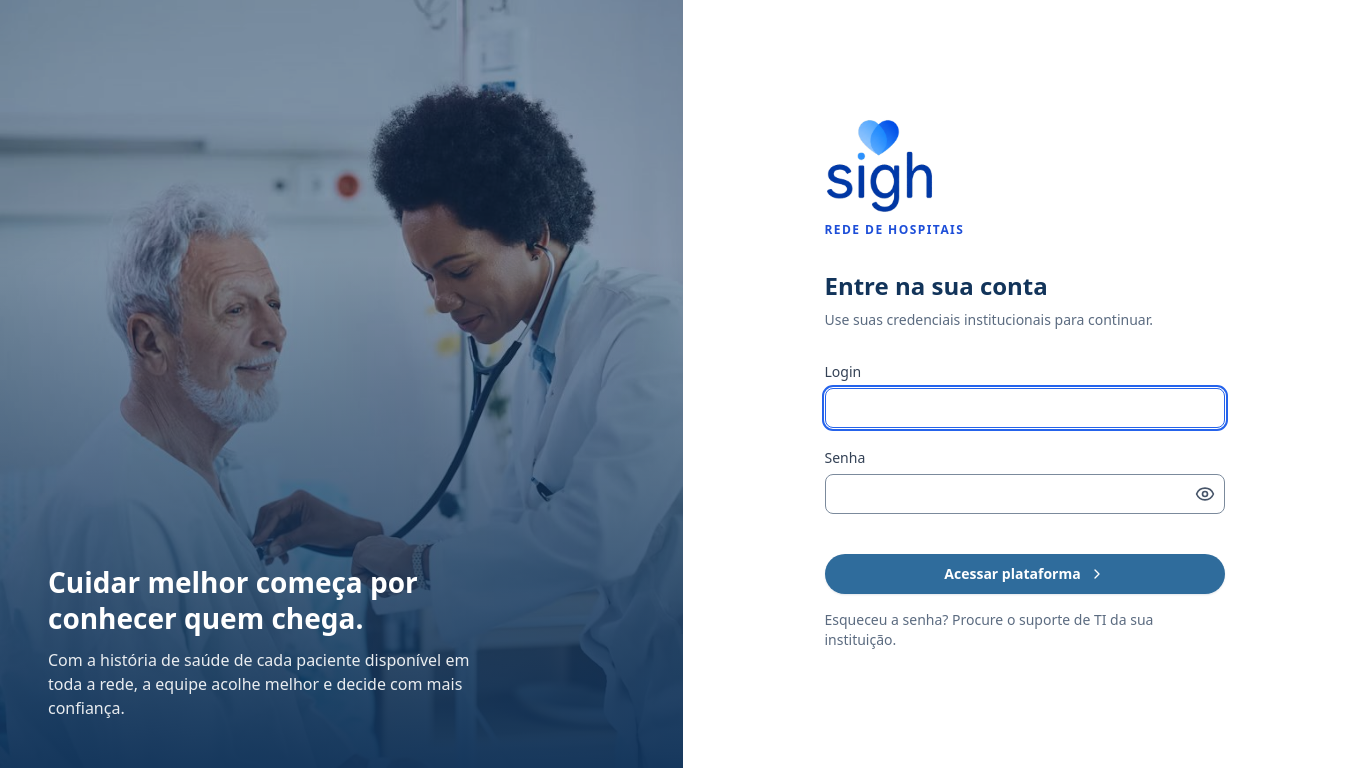
primeiro acesso com senha temporária › mostra a recusa da API e não segue
Step 1. Type "adm.novo" into the field labelled "Login" → (1024, 408), box 824,388 -> 1224,428
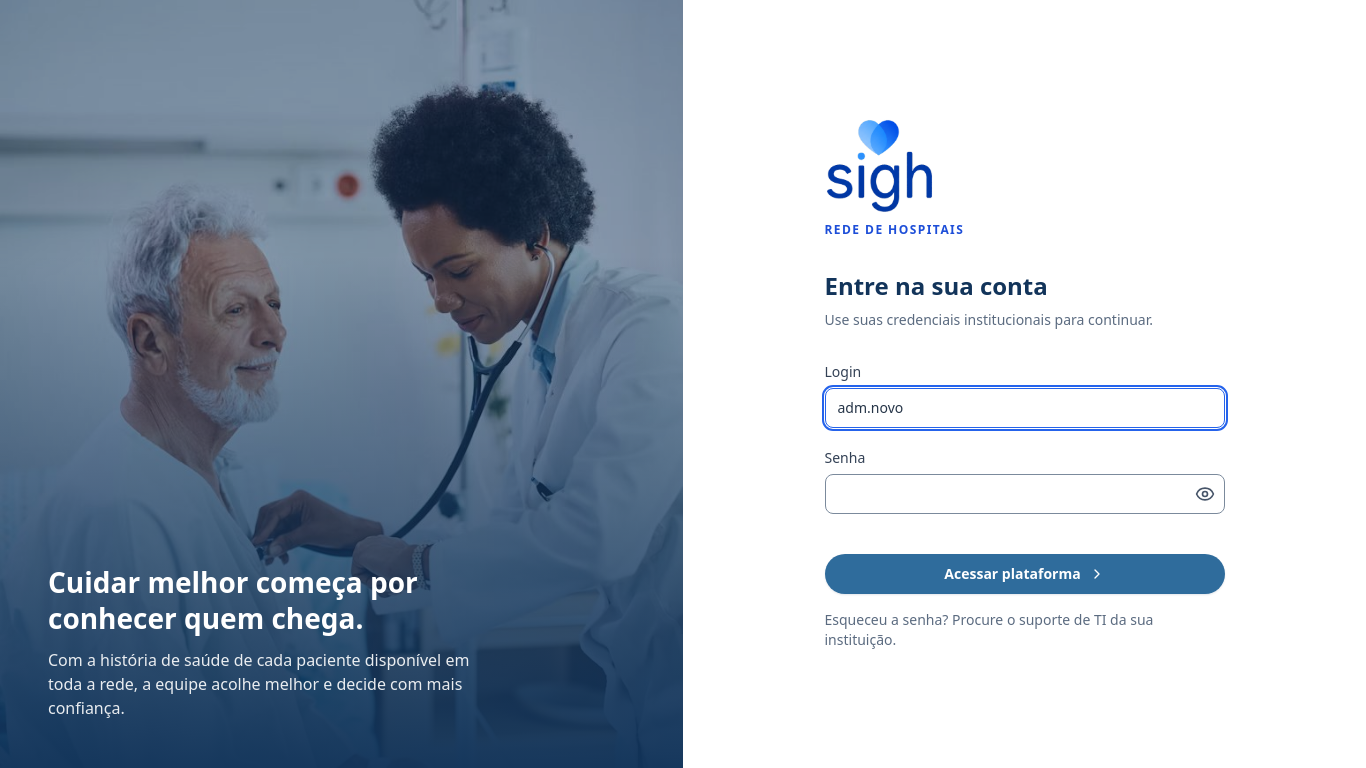
Step 2. Type "Temporaria2026Ab" into the password field labelled "Senha" → (1024, 494), box 824,474 -> 1224,514
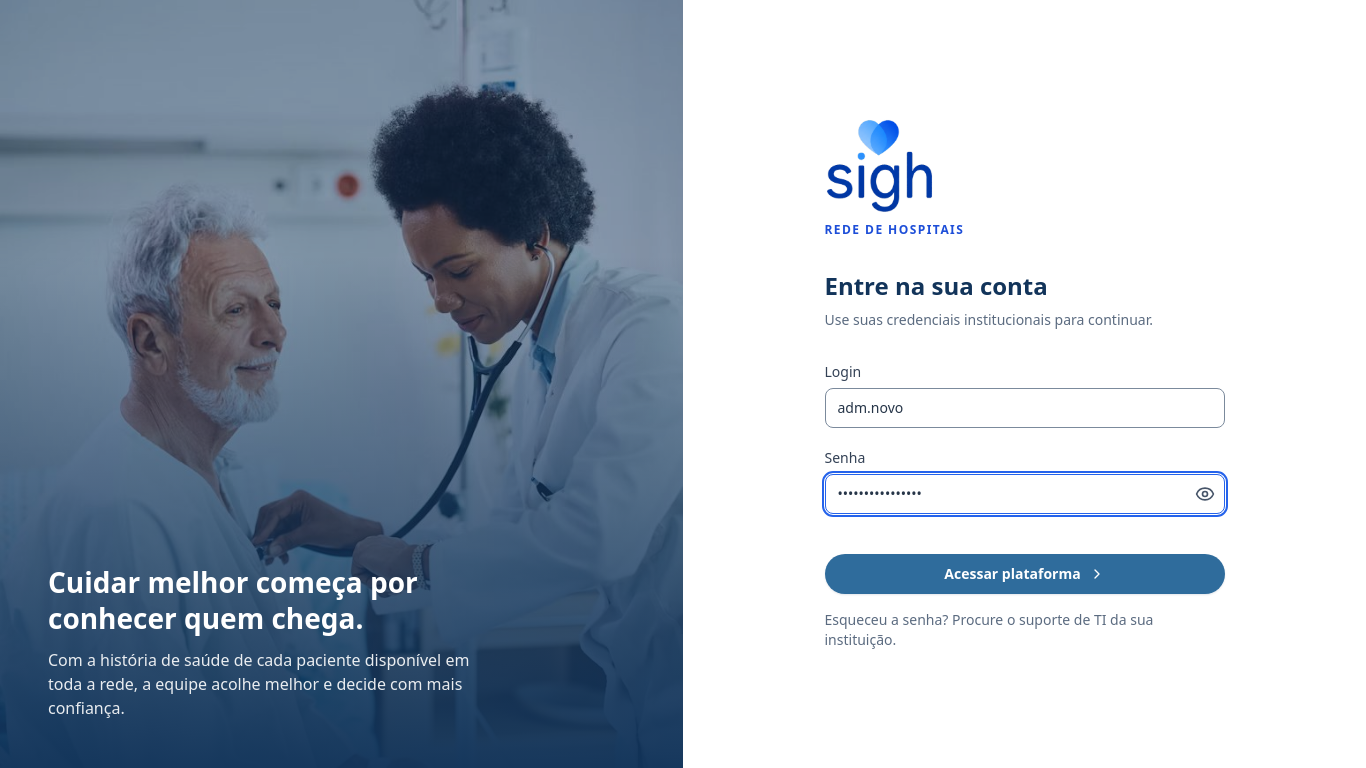
Step 3. Click the button "Acessar plataforma" → (1024, 574), box 824,554 -> 1224,594
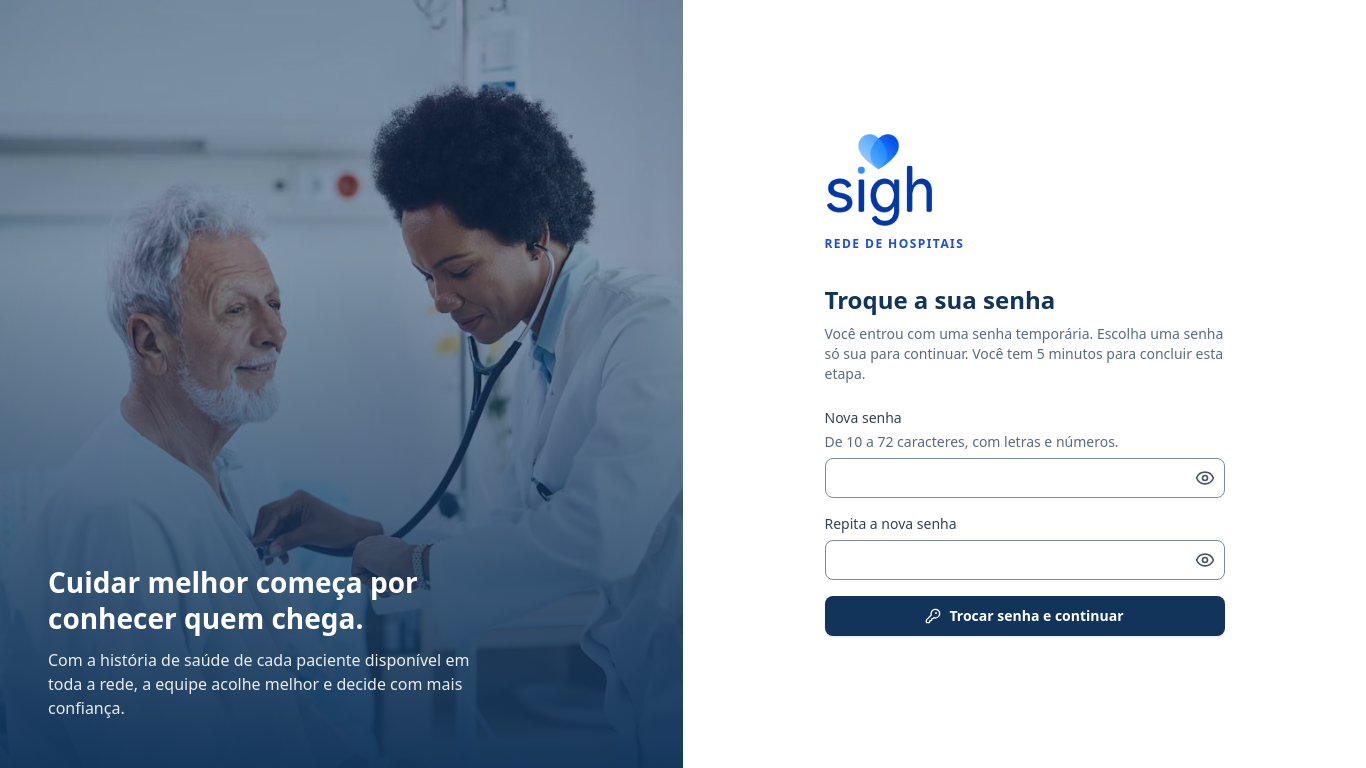
Step 4. Type "Temporaria2026Ab" into the password field labelled "Nova senha" → (1024, 478), box 824,458 -> 1224,498
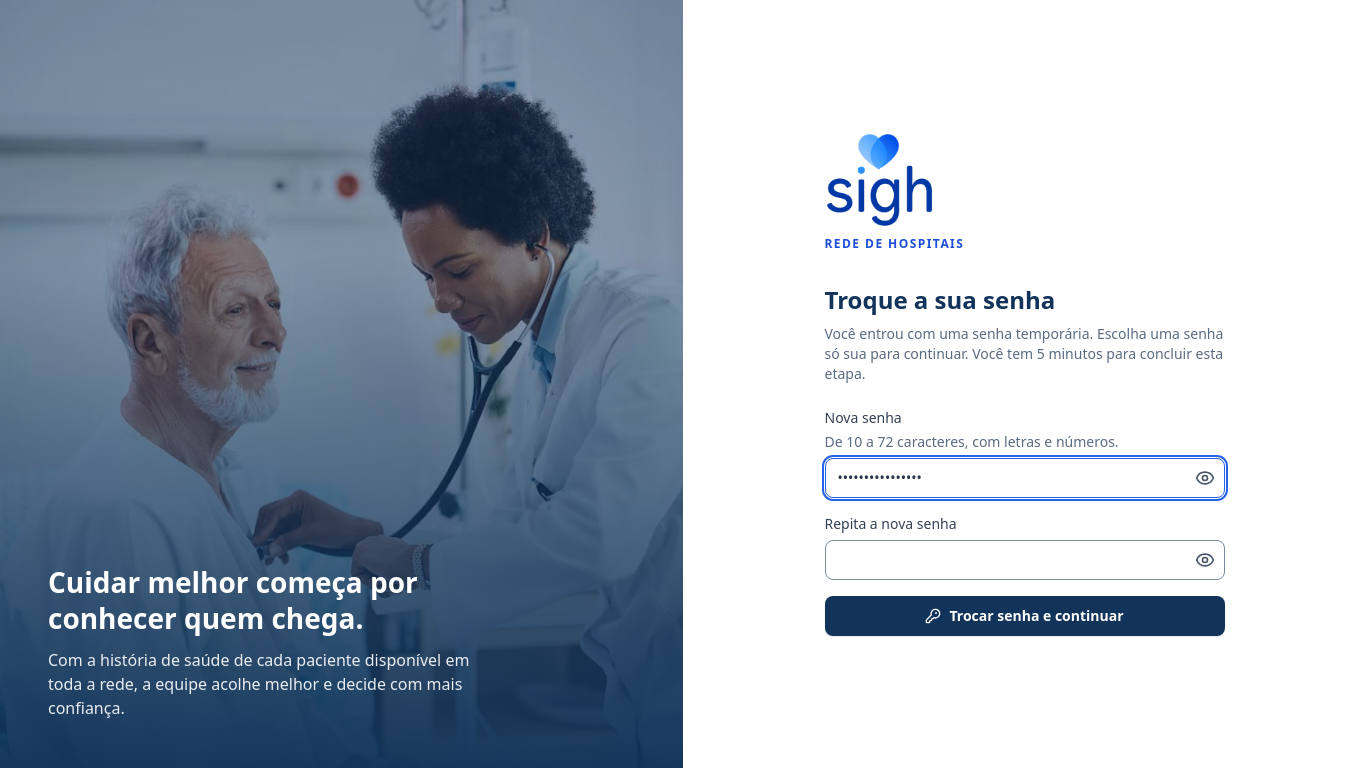
Step 5. Type "Temporaria2026Ab" into the password field labelled "Repita a nova senha" → (1024, 560), box 824,540 -> 1224,580
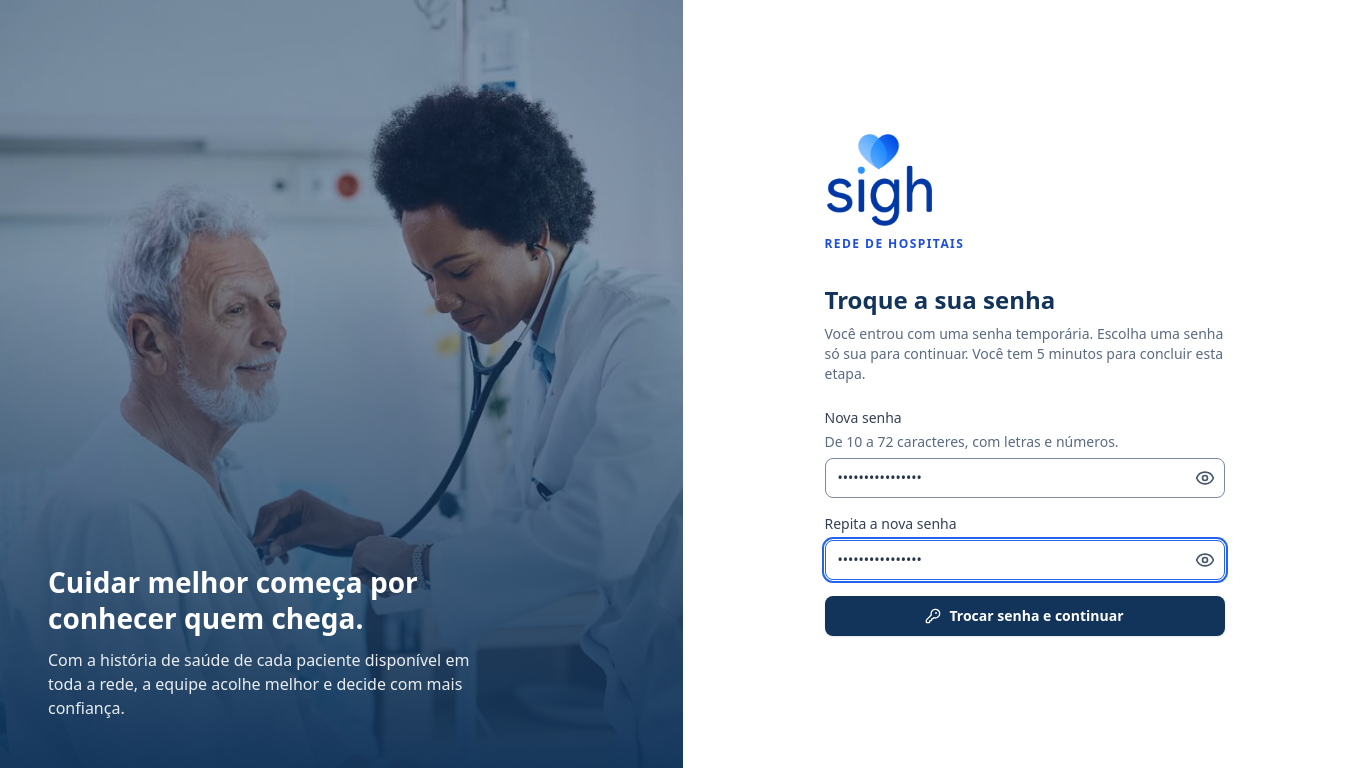
Step 6. Click the button "Trocar senha e continuar" → (1024, 616), box 824,596 -> 1224,636
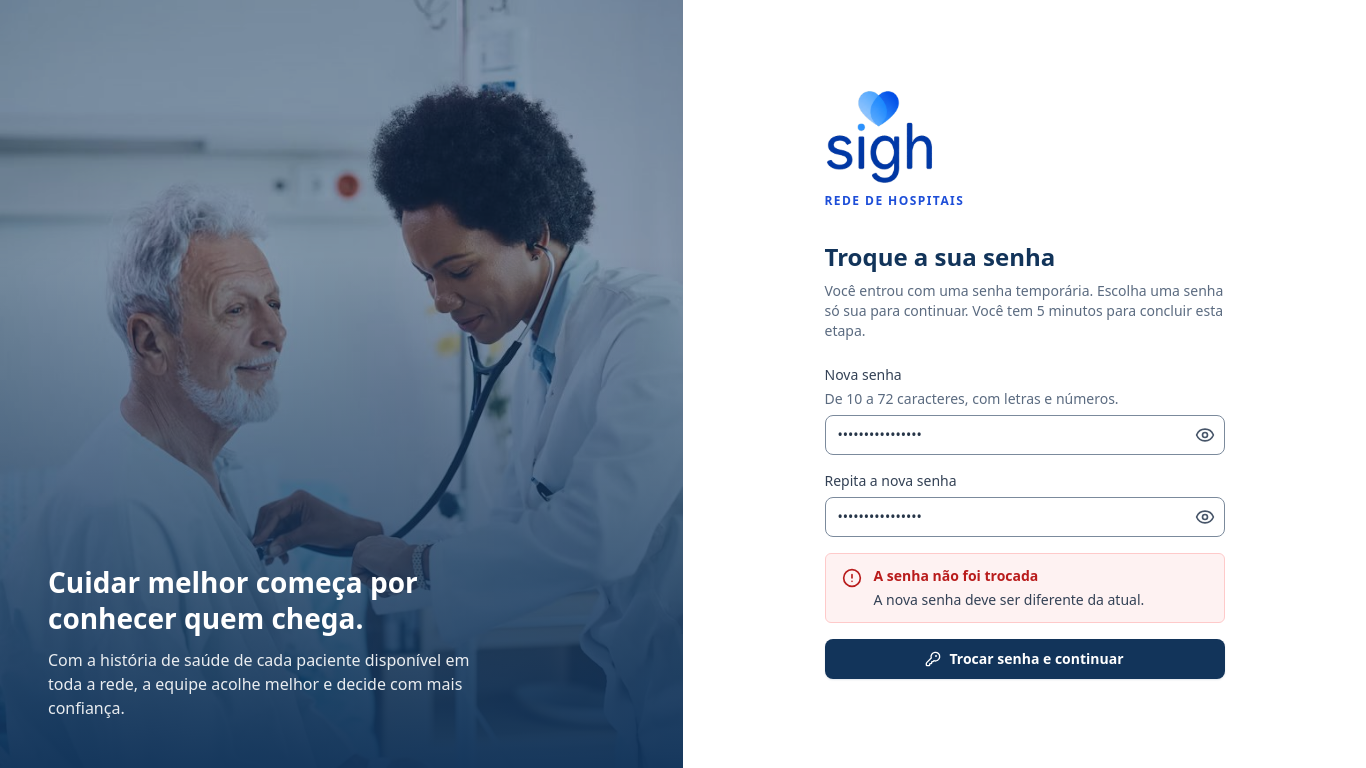
Result: the heading "Troque a sua senha" is shown at 824,240 -> 1055,273
Result: the text "A nova senha deve ser diferente da atual." is shown at 874,590 -> 1144,609
